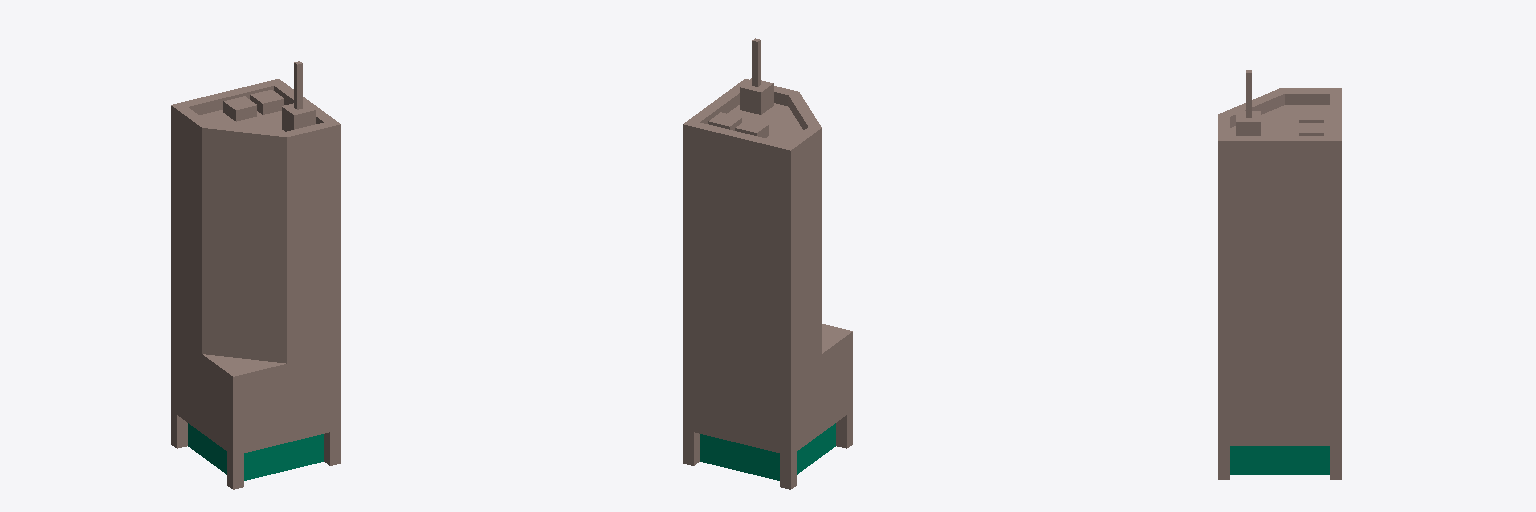
File: low_buildingB_CyPk.obj
3 views of the same model, side by side, from view 1: azimuth 30°, elevation 25°; view 2: azimuth 150°, elevation 25°; view 3: azimuth 270°, elevation 25° (orthographic).
Parts seen in each view (by area): view 1: low_buildingB; view 2: low_buildingB; view 3: low_buildingB.
Boxes of the visible parts, x1=… form: low_buildingB: x1=171, y1=61, x2=340, y2=489; low_buildingB: x1=683, y1=38, x2=852, y2=489; low_buildingB: x1=1218, y1=70, x2=1341, y2=479.
Bounding box in the file's own units: 0.5 × 1.75 × 0.5.